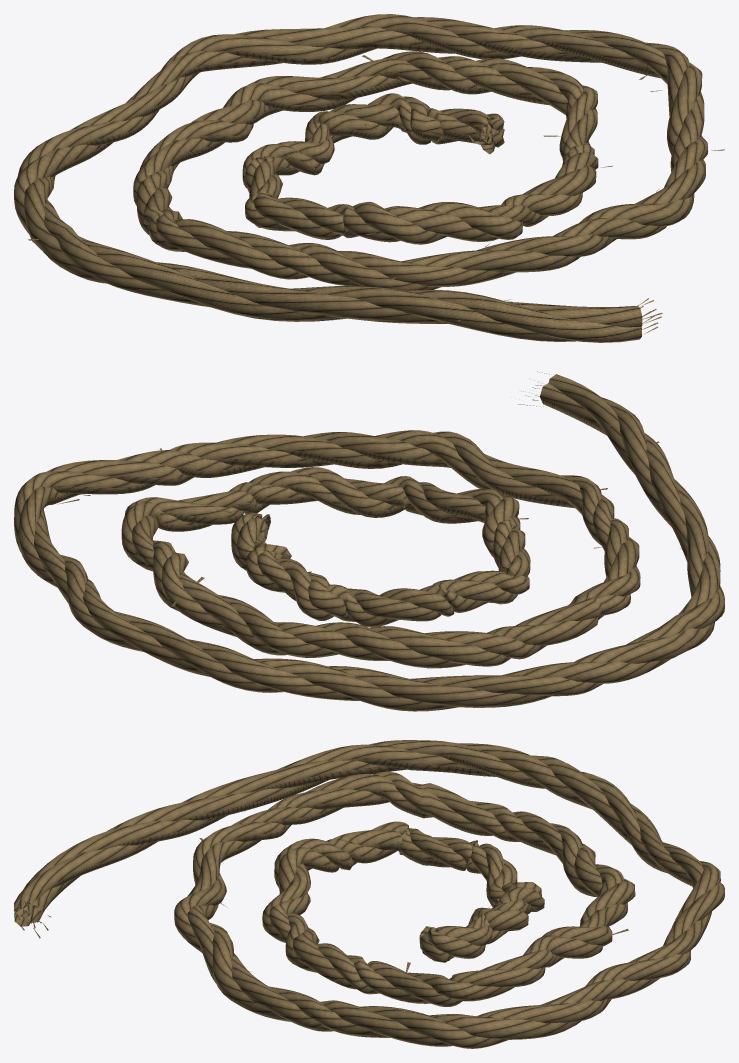
File: cordel_canamo_v018.glb
3 renders of one model, top to bottom at view 1: azimuth 30°, elevation 25°; view 2: azimuth 150°, elevation 25°; view 3: azimuth 270°, elevation 25°, orthographic. The views are drawn at different scales.
Parts seen in each view (by area): view 1: natural_hemp_three_strand_coil; view 2: natural_hemp_three_strand_coil; view 3: natural_hemp_three_strand_coil.
Boxes of the visible parts, x1,y1,x2,y2 form: natural_hemp_three_strand_coil: (14, 14, 707, 342); natural_hemp_three_strand_coil: (14, 374, 724, 711); natural_hemp_three_strand_coil: (14, 740, 724, 1048).
Bounding box in the file's own units: 0.9514 × 0.0762 × 0.9575.
1 material, 1 textured.
